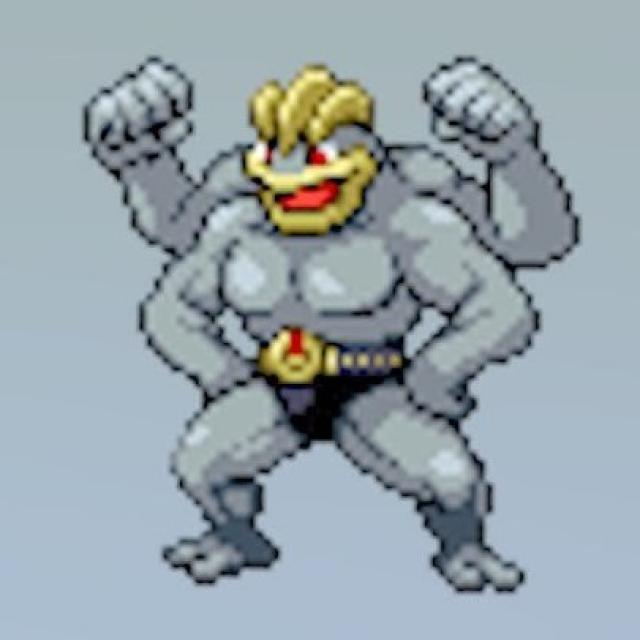Machamp: (124, 67, 549, 590)
